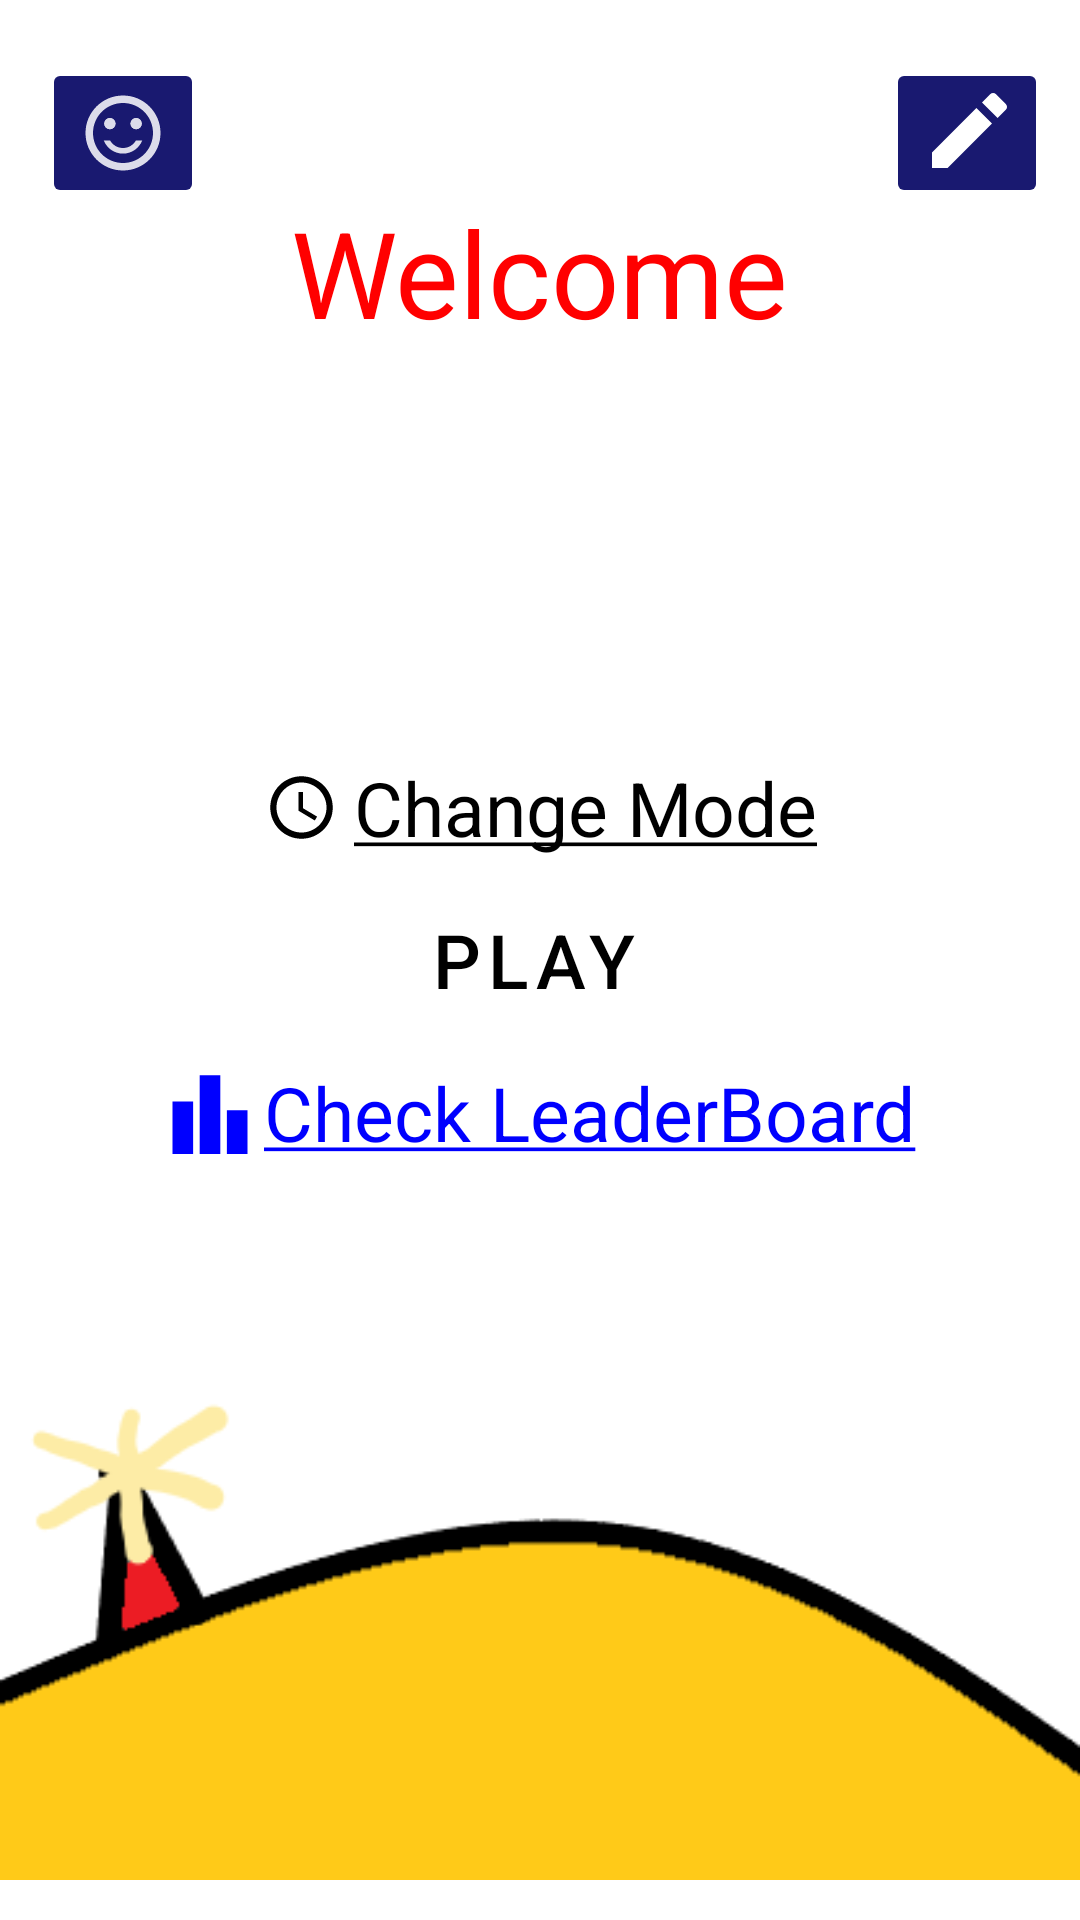

Where to tap for icons on this 1080px×1920px app screen, as (x,y):
mode edit: (967,133)
